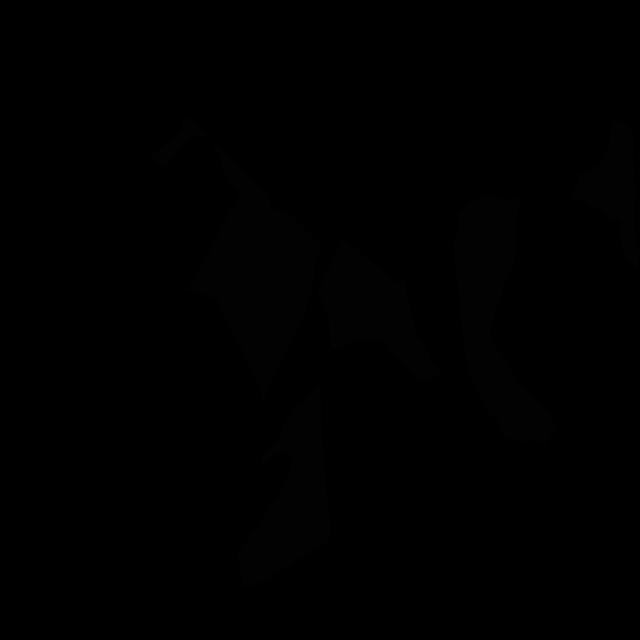cardboard: (186, 138, 321, 400), (453, 196, 556, 445), (237, 383, 331, 587), (315, 237, 442, 380), (569, 121, 640, 269), (150, 116, 206, 169)
